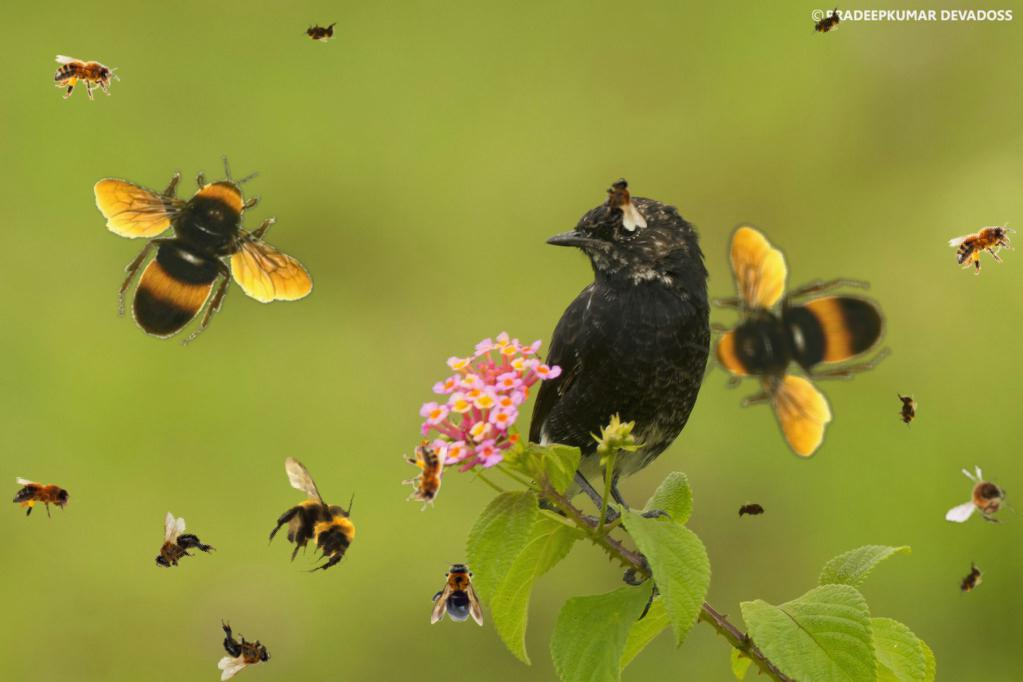Bee: (639, 186, 929, 479), (94, 155, 314, 346), (232, 437, 389, 594), (137, 509, 220, 589), (944, 460, 1023, 534), (946, 209, 1023, 282), (431, 558, 483, 626), (585, 178, 647, 231), (218, 619, 271, 681), (13, 477, 79, 522), (402, 445, 447, 511), (54, 55, 120, 100), (949, 557, 991, 603), (804, 3, 850, 43), (300, 21, 340, 43), (732, 500, 772, 522), (896, 390, 918, 430)
